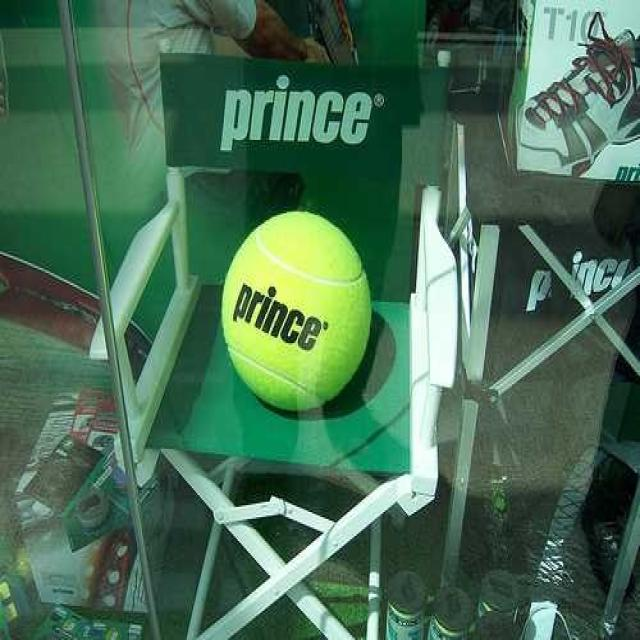Tennis_Ball: (229, 208, 370, 402)
